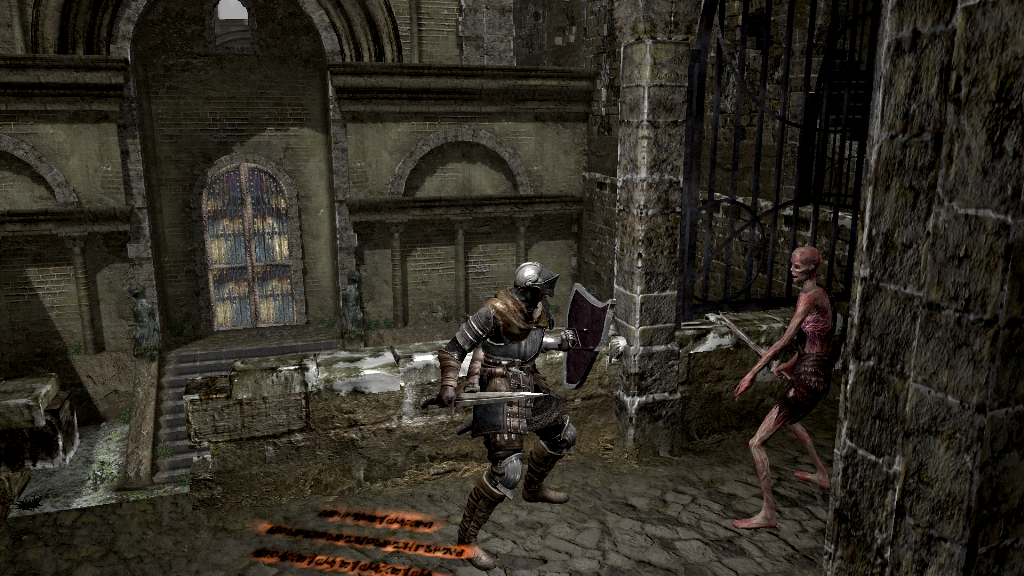hollow: (733, 246, 834, 530)
player: (422, 262, 617, 566)
